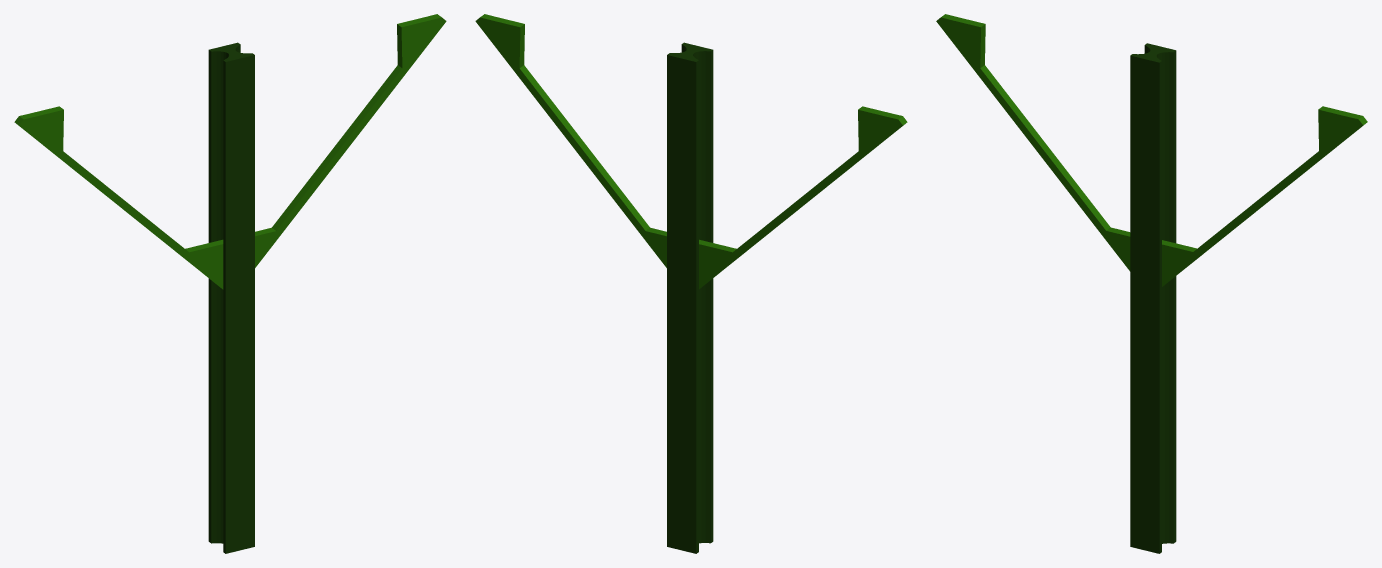
File: Second Floor Beam.fbx
3 renders of one model, left to right at view 1: azimuth 30°, elevation 25°; view 2: azimuth 150°, elevation 25°; view 3: azimuth 330°, elevation 25°, orthographic.
Visible parts, largest first — view 1: Steel_Beam, Cube, Cube.001; view 2: Steel_Beam, Cube, Cube.001; view 3: Steel_Beam, Cube.001, Cube.
Part boxes in pixels (x1,y1,x2,y2): Steel_Beam: [208, 42, 254, 553]; Cube: [255, 14, 446, 267]; Cube.001: [14, 106, 223, 289]; Steel_Beam: [667, 42, 713, 553]; Cube: [475, 14, 666, 267]; Cube.001: [699, 106, 907, 289]; Steel_Beam: [1130, 43, 1176, 553]; Cube.001: [936, 14, 1130, 271]; Cube: [1162, 106, 1367, 286].
Bounding box in the file's own units: 889 × 977 × 60.84.
